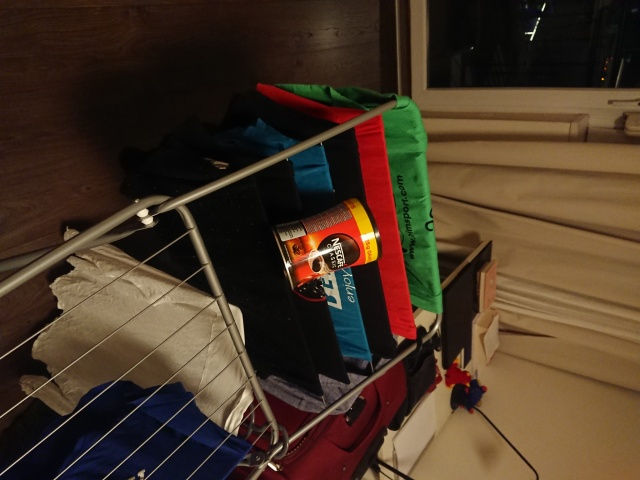Nescafe Classic 225g: (268, 193, 386, 293)
